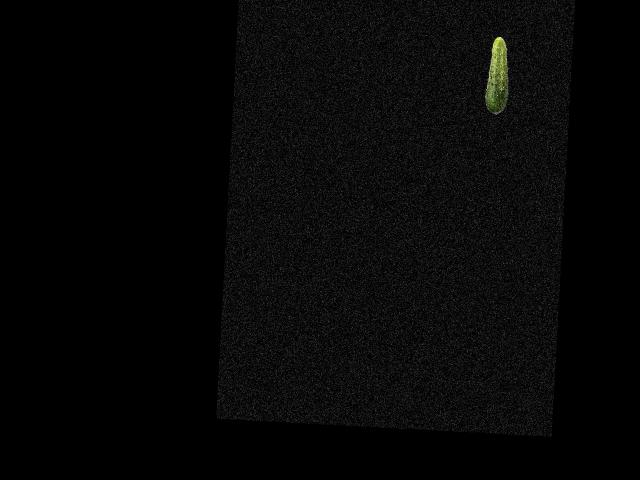cucumber: (484, 36, 512, 115)
